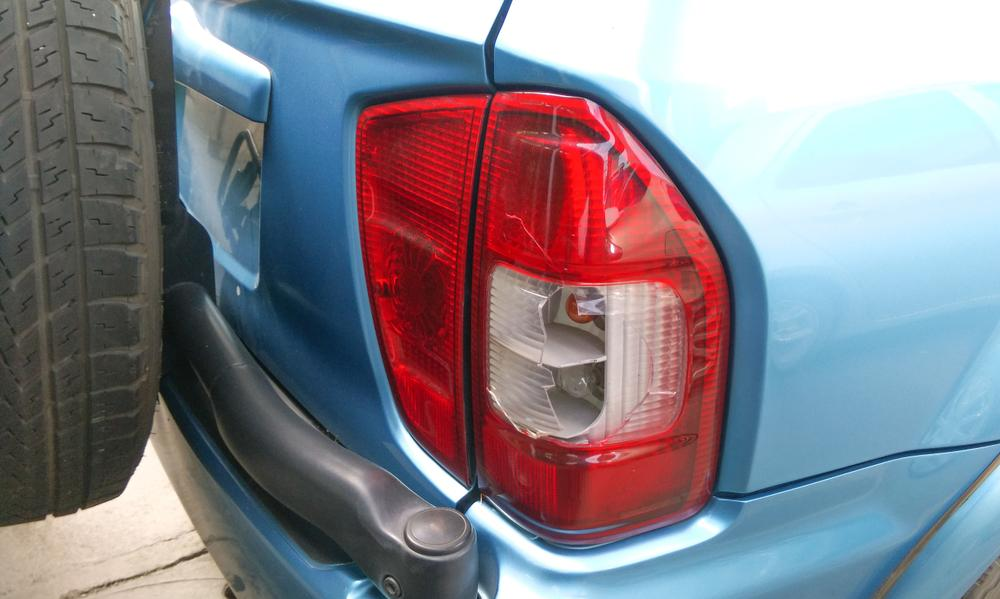lamp broken: (469, 91, 736, 544)
